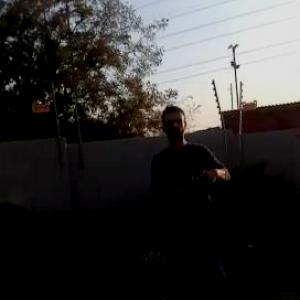follow: (144, 101, 244, 299)
